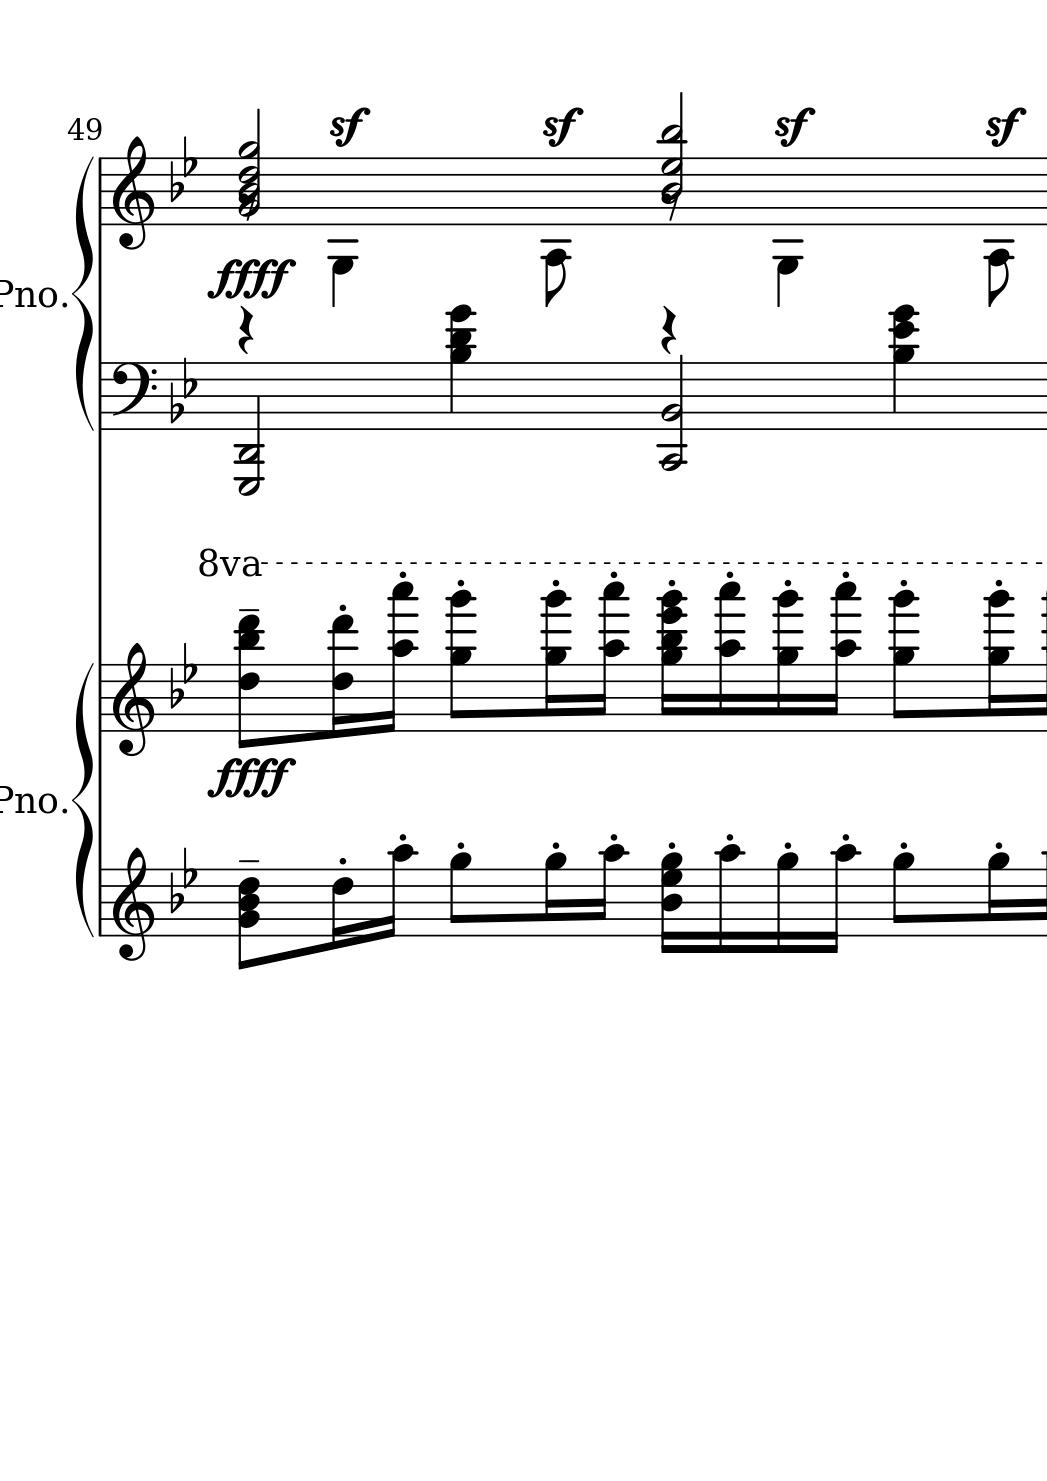16_10: (823, 843, 860, 956), (378, 842, 415, 940), (715, 843, 743, 956), (593, 843, 625, 940)
16_10_17: (378, 581, 419, 734), (824, 580, 861, 733), (593, 581, 629, 734), (713, 581, 747, 735)
16_6: (330, 867, 354, 950)
16_6_13: (327, 614, 356, 741)
16_9: (773, 850, 799, 956), (543, 851, 567, 939), (986, 851, 1010, 939)
16_9_16: (984, 589, 1018, 734), (540, 589, 573, 734), (772, 588, 803, 733)
16_th: (652, 588, 688, 735), (657, 851, 686, 955)
2_-4_2: (657, 354, 690, 473)
2_-7_-3: (233, 361, 265, 497)
2_4th: (238, 109, 263, 229)
2_th: (659, 93, 687, 228)
4: (66, 114, 84, 143)
4_-5: (772, 155, 805, 307), (327, 158, 359, 309)
4_th: (886, 301, 919, 429), (444, 300, 476, 425)
8_-4: (542, 158, 572, 308), (984, 158, 1014, 308)
8_9: (889, 851, 916, 940), (446, 851, 473, 939)
8_9_16: (444, 588, 477, 734), (889, 589, 922, 735)
8_th: (233, 614, 263, 751), (238, 867, 264, 974)
9: (83, 114, 102, 142)
B_F: (168, 355, 199, 424), (168, 134, 199, 202), (168, 641, 198, 709), (168, 846, 198, 913)
Brace: (73, 658, 97, 944), (73, 154, 97, 431)
Fclef: (109, 360, 158, 432)
Gclef: (109, 846, 154, 963), (111, 641, 156, 757), (110, 134, 154, 252)
Pno: (1, 278, 57, 312), (1, 784, 57, 817)
Rests4: (658, 305, 678, 355), (236, 310, 254, 354)
Single_barline: (94, 158, 108, 225), (94, 665, 108, 732), (95, 361, 108, 429), (95, 869, 108, 936)
ffff: (206, 255, 293, 303)
fffff: (203, 754, 296, 802)
sf: (540, 105, 584, 148), (985, 105, 1027, 148), (772, 107, 816, 146), (327, 107, 371, 146)
